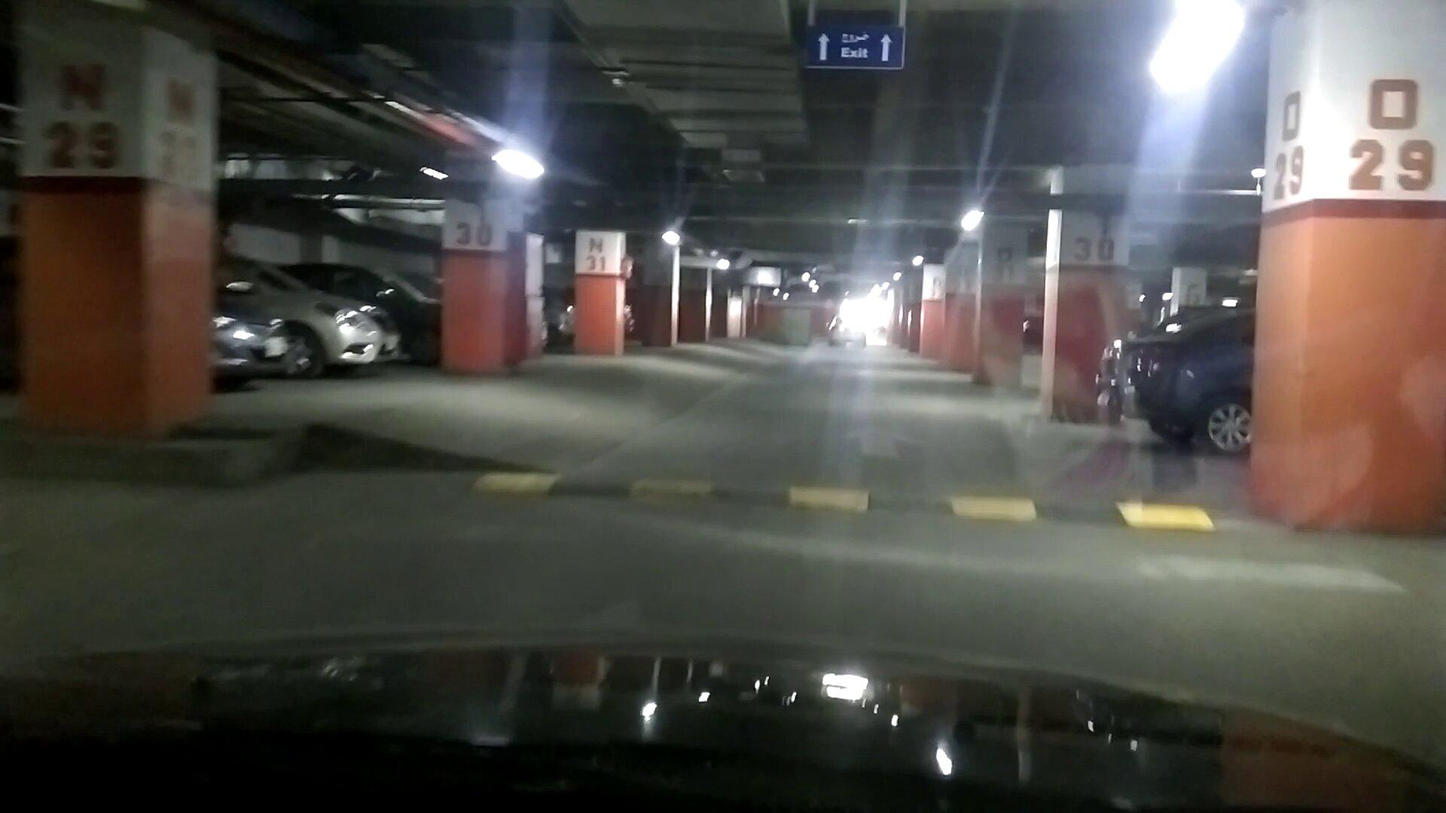Bump: (465, 462, 1216, 531)
